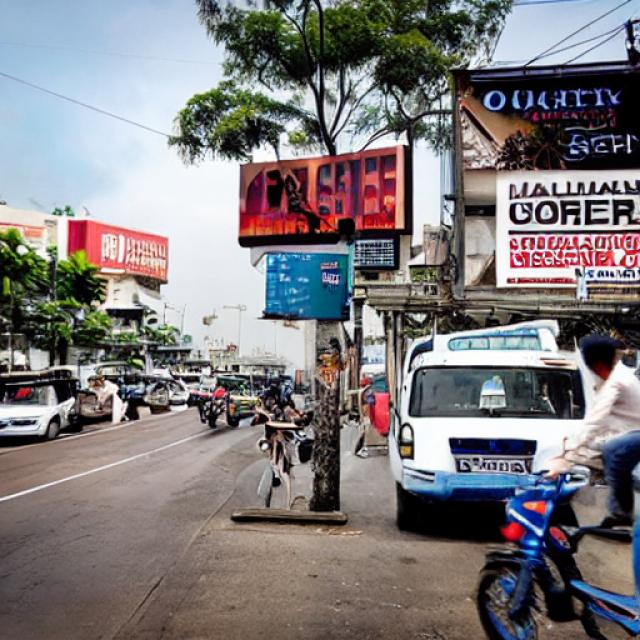Billboard: (235, 143, 410, 243), (261, 251, 351, 327)
